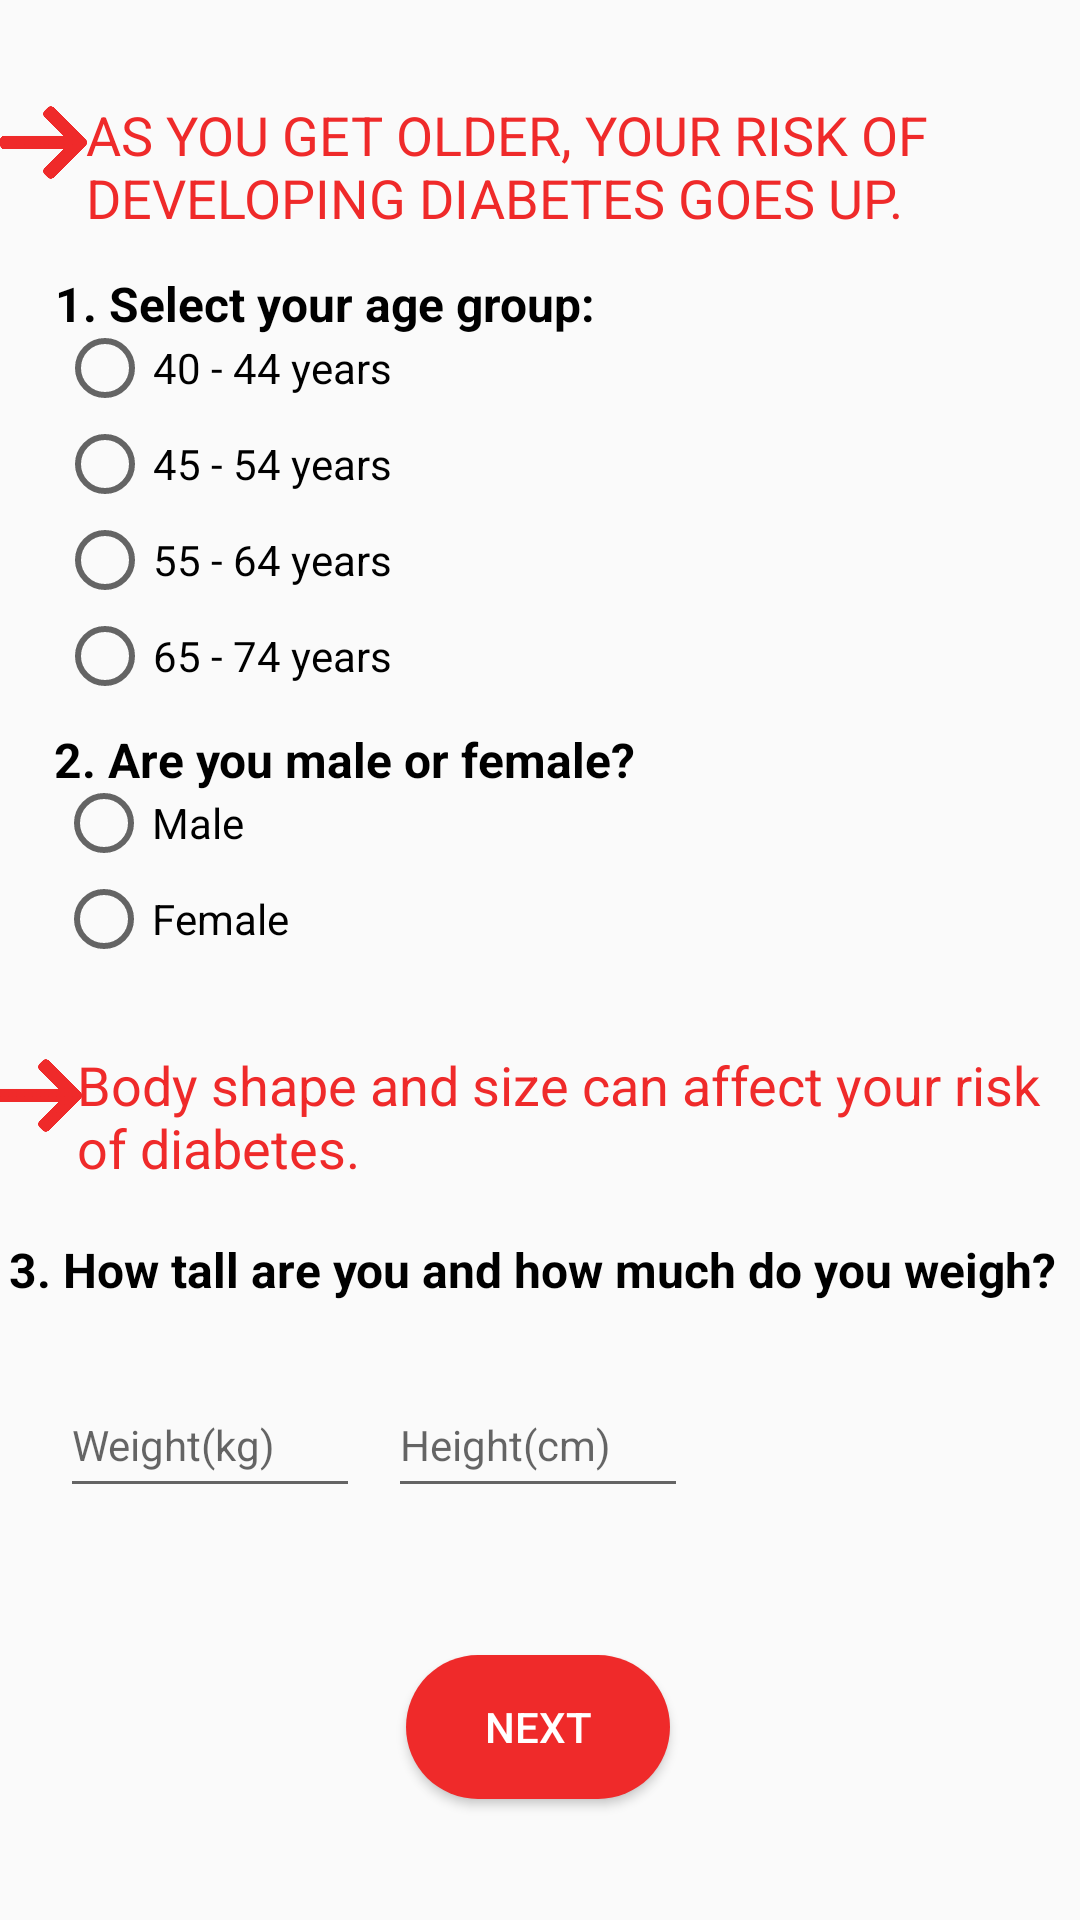

Icon bounding boxes for this 1080×1920 phone screenshot, format (x1,y1,x2,y2):
right arrow: (0,106,87,179), (0,1059,82,1132)
